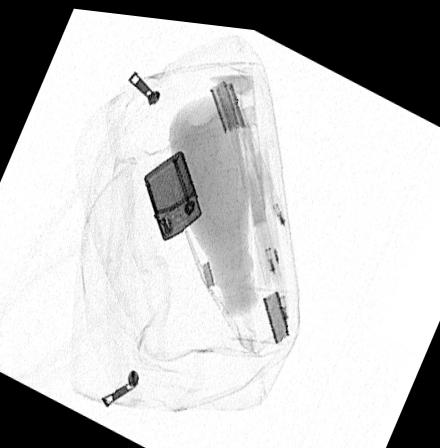Lighter: (141, 146, 201, 237)
